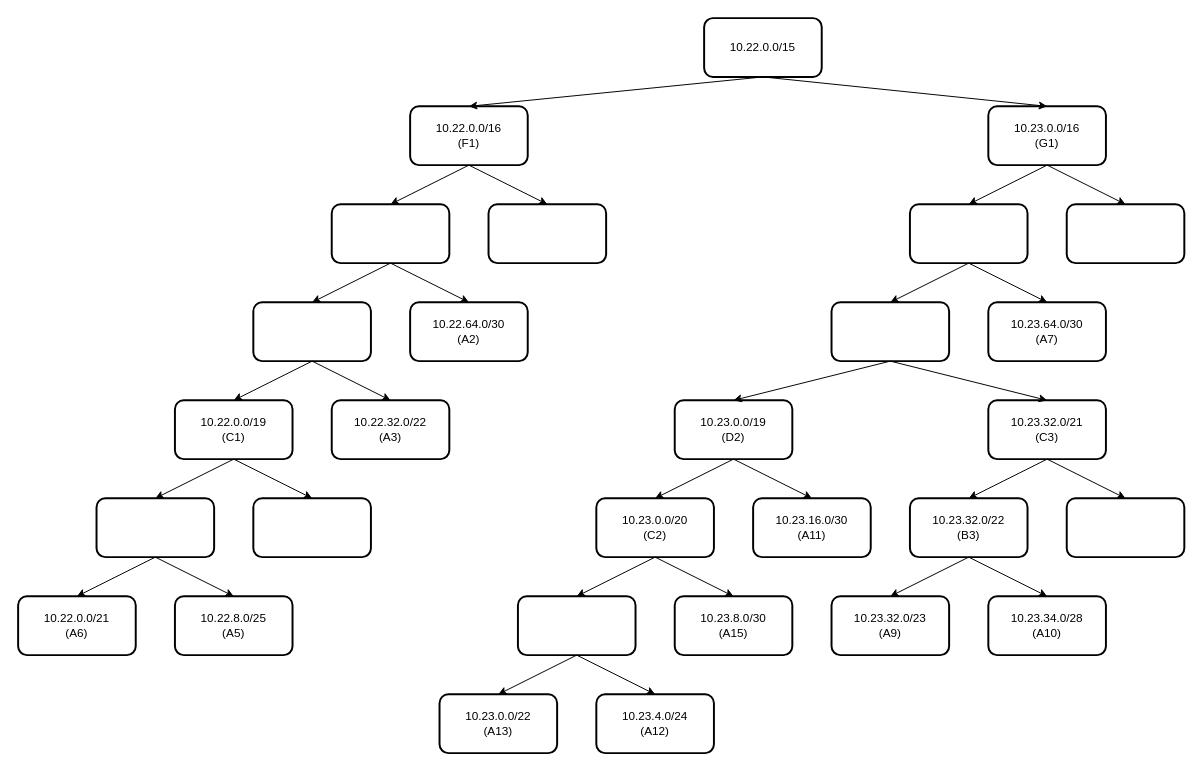
Image size: 1201x770. Some labels were removed from this diagram. Each missing label, with the centre of its shape:
"10.22.0.0/17 (E1)" belongs at point (390, 233).
"10.22.0.0/18 (D1)" belongs at point (311, 331).
"10.22.0.0/20 (B1)" belongs at point (155, 527).
"10.22.128.0/22 (A1)" belongs at point (547, 233).
"10.22.16.0/30 (A4)" belongs at point (311, 527).
"10.23.0.0/17 (F2)" belongs at point (968, 233).
"10.23.0.0/18 (E2)" belongs at point (890, 331).
"10.23.0.0/21 (B2)" belongs at point (576, 625).
"10.23.128.0/30 (A14)" belongs at point (1125, 233).
"10.23.36.0/22 (A8)" belongs at point (1125, 527).
